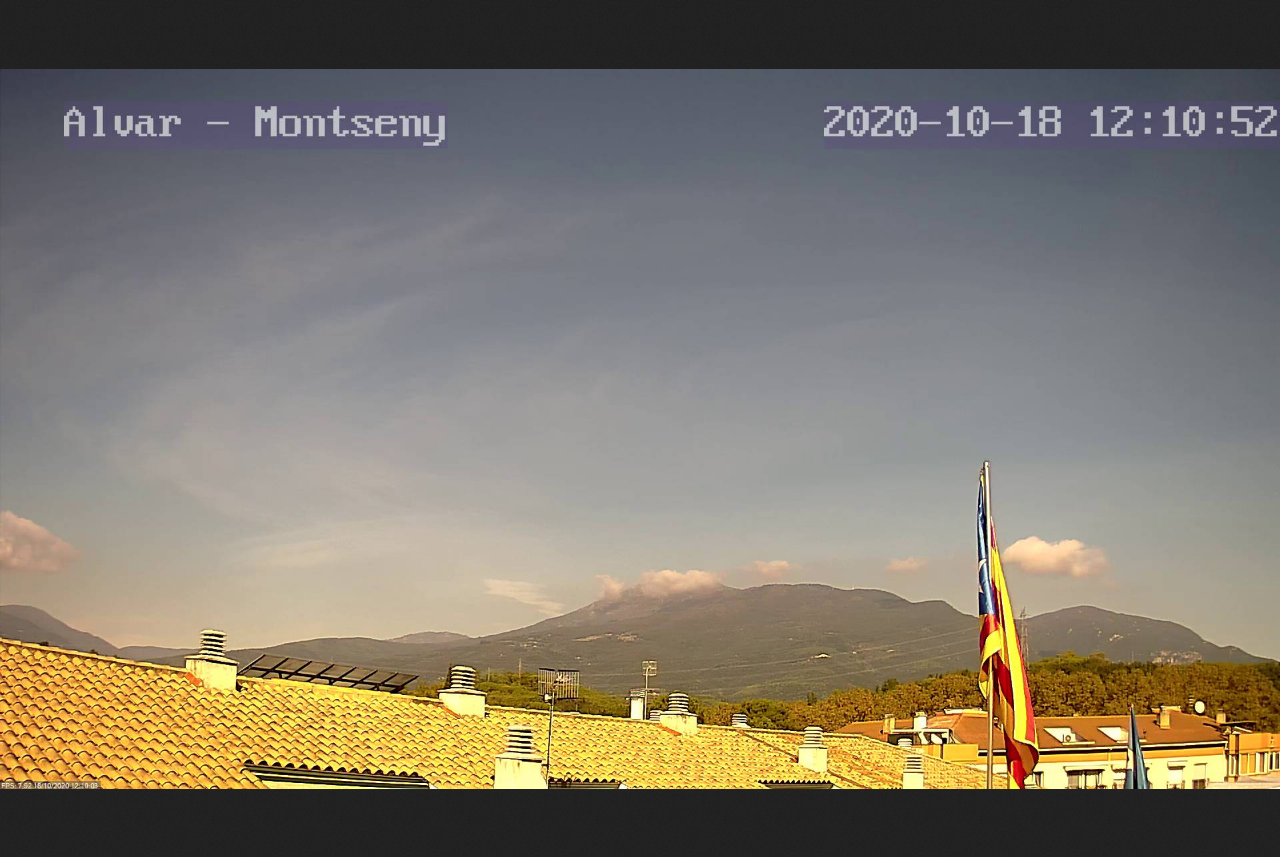no: (977, 473, 1043, 792)
